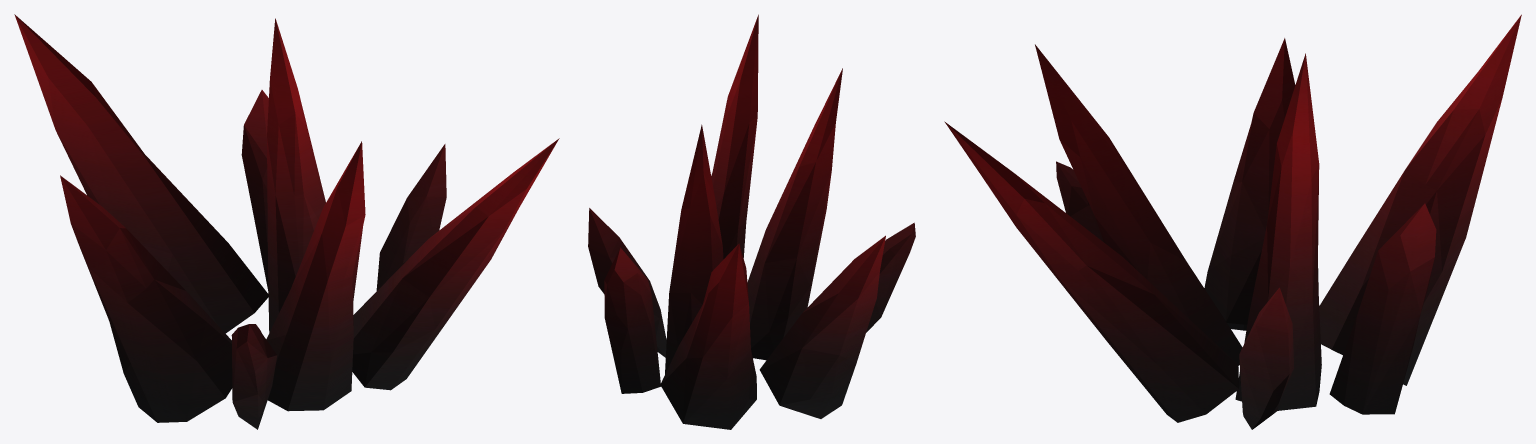
File: SpikeClusterSmall.fbx
The picture shows the model from 3 angles, left to right: view 1: azimuth 30°, elevation 25°; view 2: azimuth 150°, elevation 25°; view 3: azimuth 270°, elevation 25°; orthographic projection. The views are drawn at different scales.
Visible parts, largest first — view 1: Spike_ClusterSmall; view 2: Spike_ClusterSmall; view 3: Spike_ClusterSmall.
Part boxes in pixels (bbox=[...]): Spike_ClusterSmall: bbox=[14, 14, 559, 429]; Spike_ClusterSmall: bbox=[588, 14, 915, 429]; Spike_ClusterSmall: bbox=[944, 14, 1521, 429].
Bounding box in the file's own units: 4.13 × 3.59 × 5.33.
1 material, 1 textured.
